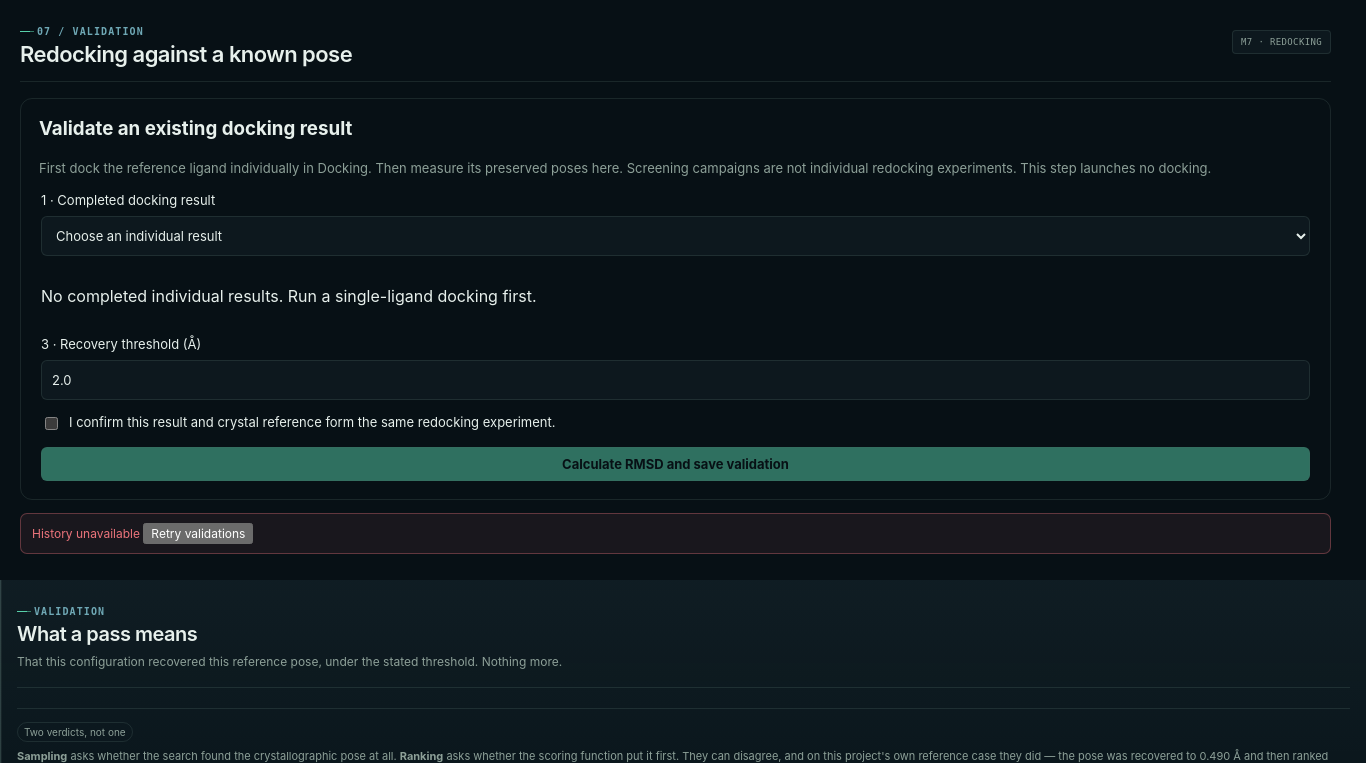
Test: stops the history spinner on failure and retries without creating a record
Expected: the text "History unavailable" is shown, x1=32 y1=526 x2=140 y2=541
Click the button "Retry validations". click: (198, 534)
box: x1=143 y1=523 x2=253 y2=544
(page scrolled)
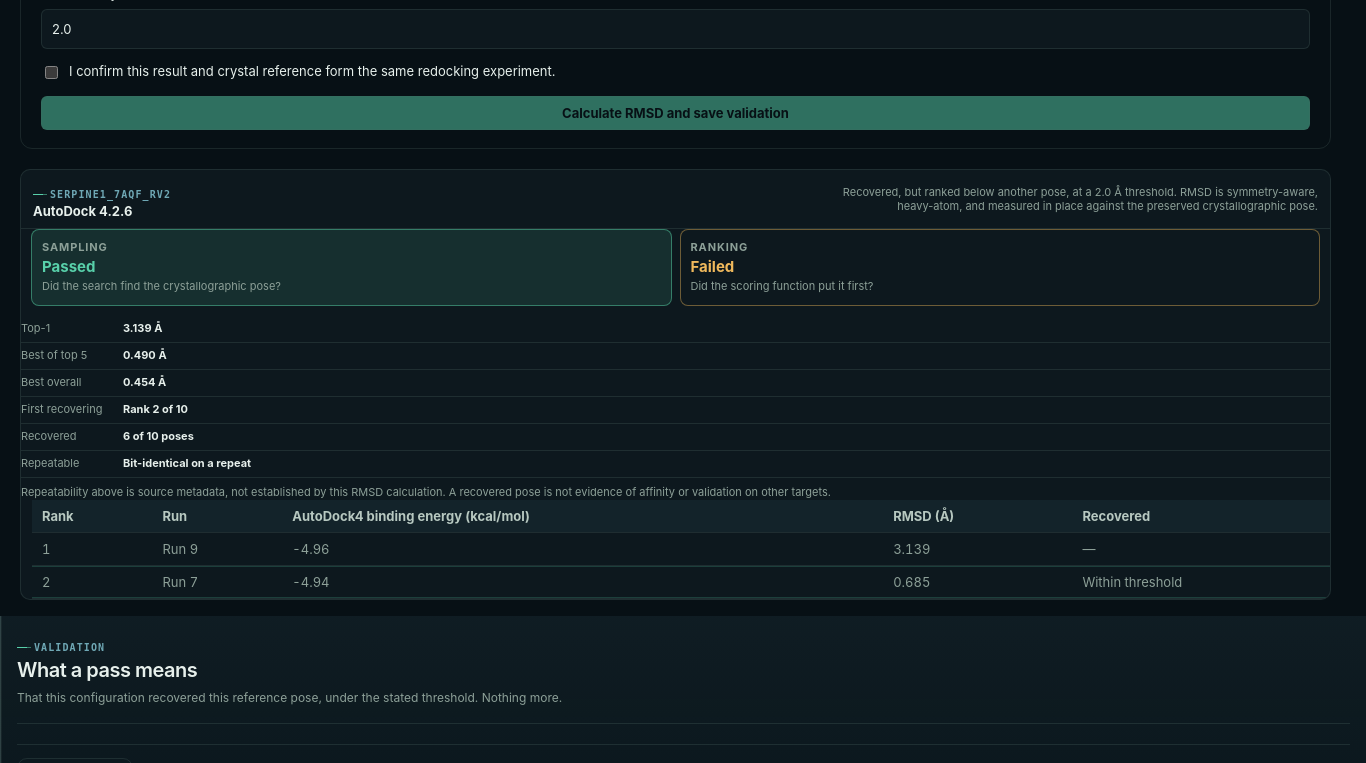
Expected: the element named "Redocking validation results" is shown, x1=20 y1=169 x2=1331 y2=600
